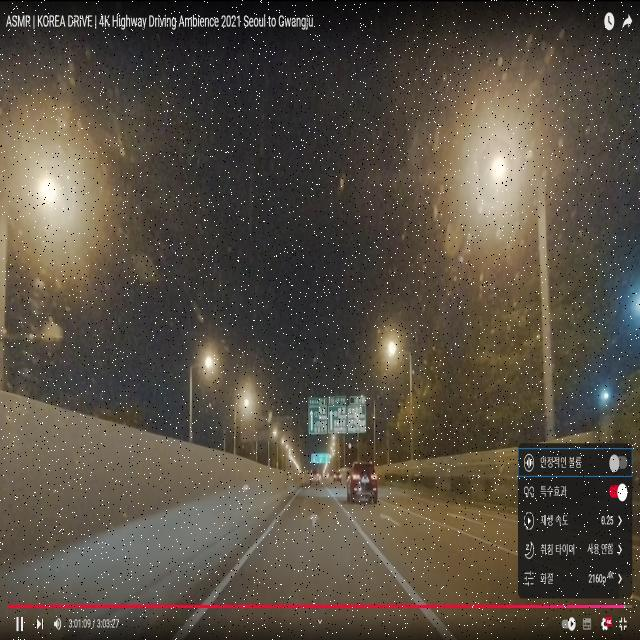forward: (258, 505, 370, 536)
